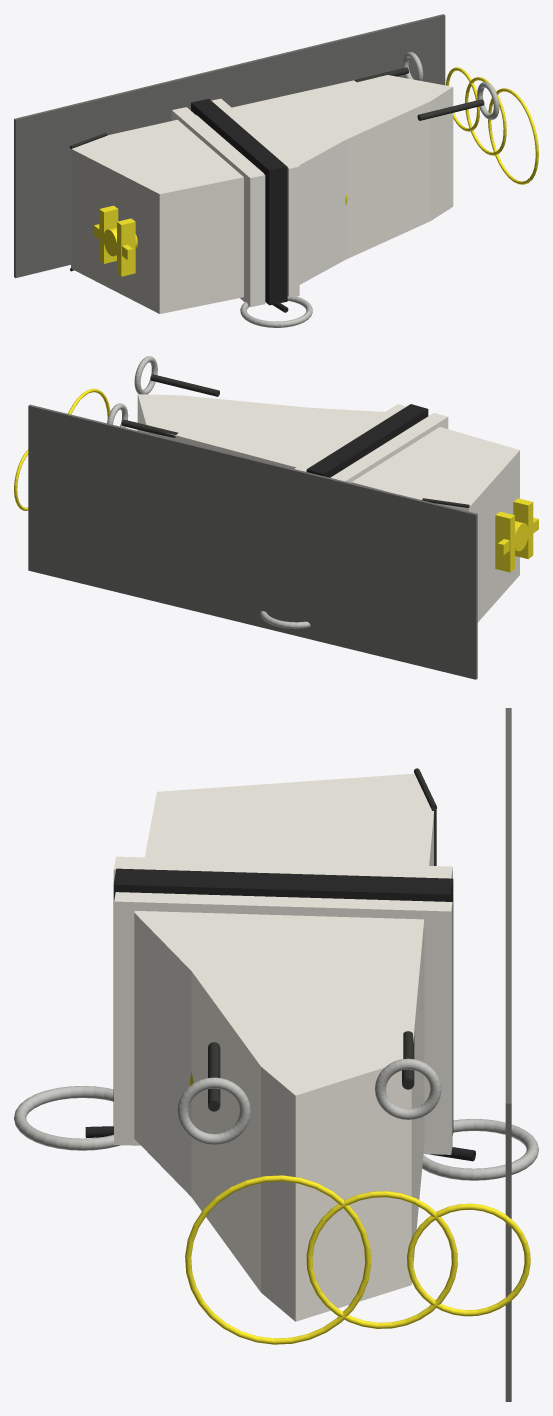
The model's file is Mr_Trebuchet_medieval_catapultist.glb.
The picture shows the model from 3 angles, top to bottom: view 1: azimuth 30°, elevation 25°; view 2: azimuth 150°, elevation 25°; view 3: azimuth 270°, elevation 25°; orthographic projection. The views are drawn at different scales.
Parts seen in each view (by area): view 1: single-piece faceted white body, thin display base, black throwing arm stripe on body, white band left of throwing arm, white band right of throwing arm, yellow rear fin upper, yellow sketch swirl 1, large upper sling hoop, yellow rear fin lower, yellow sketch swirl 2, rear axle top, small rear top wheel (+2 smaller); view 2: thin display base, single-piece faceted white body, black throwing arm stripe on body, white band left of throwing arm, yellow rear fin lower, white band right of throwing arm, yellow rear fin upper, rear axle top, small rear top wheel, rear axle bottom; view 3: single-piece faceted white body, white band right of throwing arm, black throwing arm stripe on body, thin display base, white band left of throwing arm, yellow sketch swirl 1, yellow sketch swirl 2, large upper sling hoop, large lower sling hoop, yellow sketch swirl 3, small rear top wheel, small rear lower wheel.
Boxes of the visible parts, x1=… form: single-piece faceted white body: x1=71, y1=75, x2=453, y2=313; thin display base: x1=14, y1=14, x2=445, y2=278; black throwing arm stripe on body: x1=191, y1=99, x2=287, y2=305; white band left of throwing arm: x1=171, y1=107, x2=265, y2=306; white band right of throwing arm: x1=211, y1=98, x2=299, y2=296; yellow rear fin upper: x1=117, y1=218, x2=135, y2=276; yellow sketch swirl 1: x1=488, y1=88, x2=538, y2=184; large upper sling hoop: x1=240, y1=295, x2=312, y2=327; yellow rear fin lower: x1=99, y1=205, x2=118, y2=263; yellow sketch swirl 2: x1=465, y1=77, x2=506, y2=155; rear axle top: x1=417, y1=99, x2=484, y2=120; small rear top wheel: x1=477, y1=82, x2=499, y2=119; thin display base: x1=28, y1=404, x2=477, y2=679; single-piece faceted white body: x1=137, y1=394, x2=519, y2=622; black throwing arm stripe on body: x1=306, y1=404, x2=428, y2=477; white band left of throwing arm: x1=330, y1=413, x2=448, y2=482; yellow rear fin lower: x1=495, y1=511, x2=514, y2=572; white band right of throwing arm: x1=294, y1=404, x2=406, y2=471; yellow rear fin upper: x1=513, y1=498, x2=533, y2=559; rear axle top: x1=150, y1=374, x2=219, y2=396; small rear top wheel: x1=134, y1=356, x2=157, y2=394; rear axle bottom: x1=121, y1=419, x2=177, y2=437; single-piece faceted white body: x1=134, y1=773, x2=433, y2=1321; white band right of throwing arm: x1=114, y1=892, x2=452, y2=1154; black throwing arm stripe on body: x1=113, y1=868, x2=453, y2=1135; thin display base: x1=505, y1=708, x2=511, y2=1401; white band left of throwing arm: x1=113, y1=856, x2=452, y2=882; yellow sketch swirl 1: x1=185, y1=1175, x2=371, y2=1344; yellow sketch swirl 2: x1=306, y1=1191, x2=457, y2=1328; large upper sling hoop: x1=14, y1=1086, x2=120, y2=1150; large lower sling hoop: x1=422, y1=1118, x2=538, y2=1180; yellow sketch swirl 3: x1=407, y1=1203, x2=530, y2=1316; small rear top wheel: x1=177, y1=1077, x2=250, y2=1144; small rear lower wheel: x1=375, y1=1058, x2=441, y2=1119.
Bounding box in the file's own units: 5.52 × 1.9 × 3.03.
